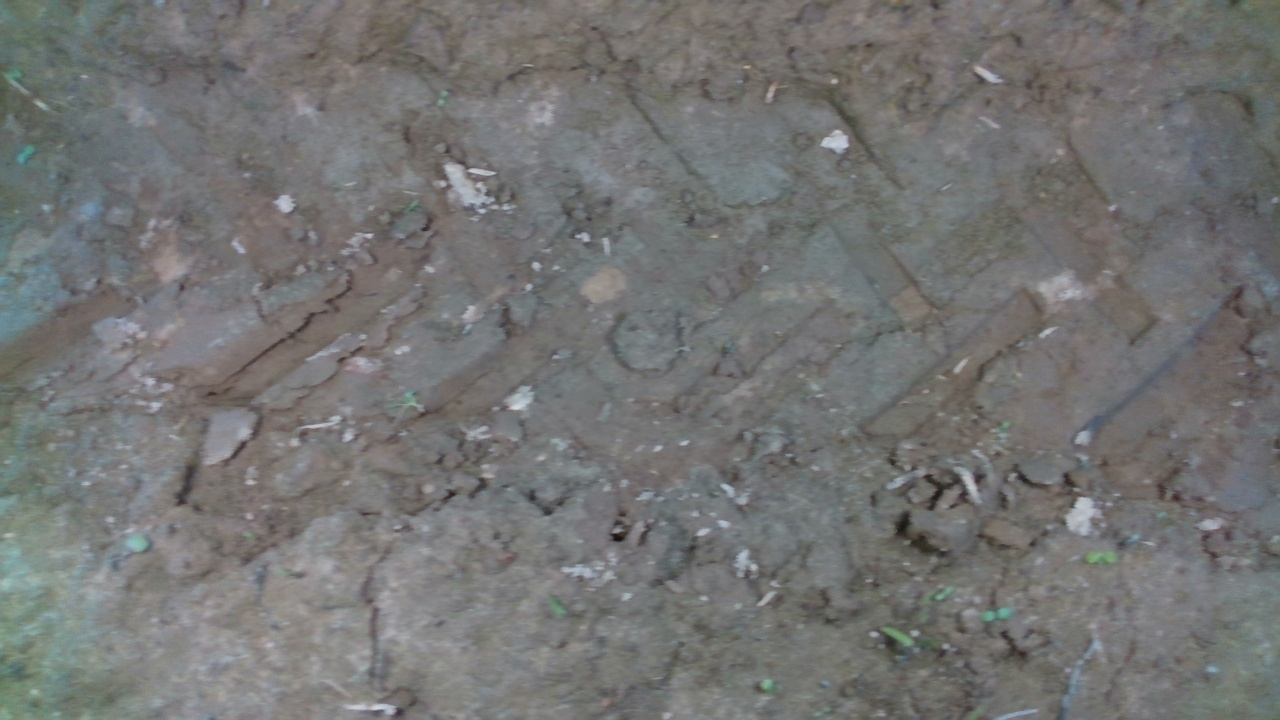weed: (978, 605, 1015, 622), (1081, 549, 1119, 565)
